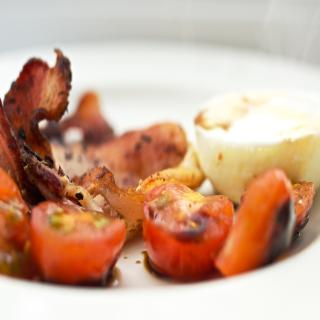tomato: (212, 166, 297, 274), (29, 199, 124, 295), (142, 182, 233, 279)
